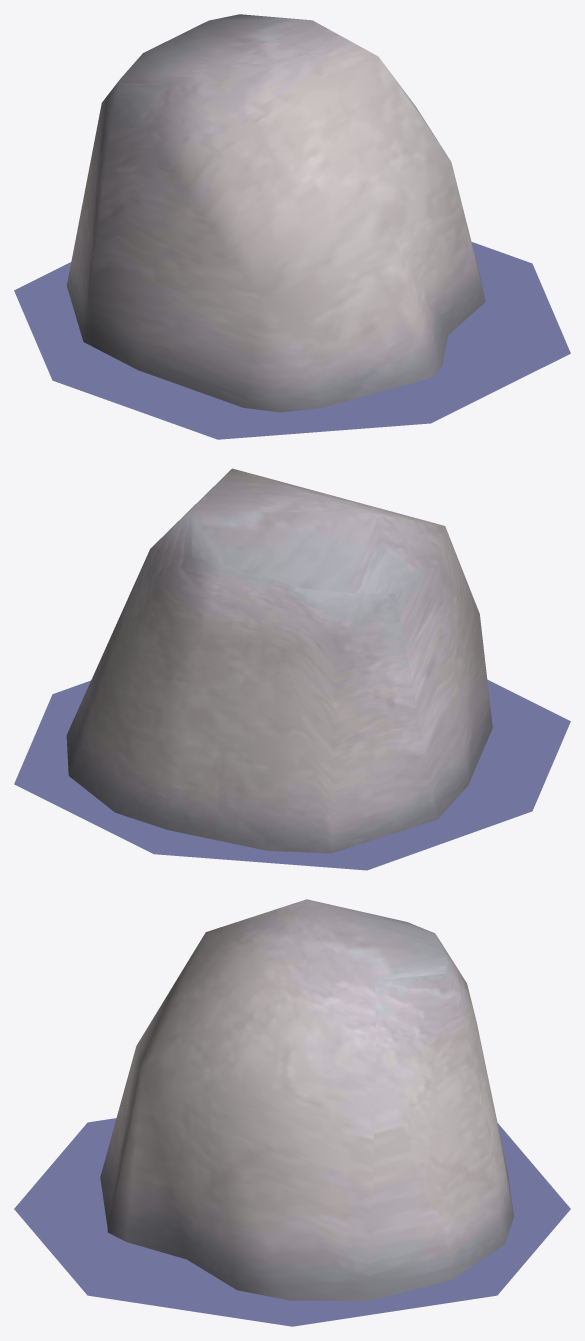
The model's file is fg_stoneA.fbx.
The picture shows the model from 3 angles, top to bottom: view 1: azimuth 30°, elevation 25°; view 2: azimuth 150°, elevation 25°; view 3: azimuth 270°, elevation 25°; orthographic projection.
Visible parts, largest first — view 1: fg_stoneA, sdw_circle; view 2: fg_stoneA, sdw_circle; view 3: fg_stoneA, sdw_circle.
Boxes of the visible parts, x1,y1,x2,y2 form: fg_stoneA: (67, 14, 485, 412); sdw_circle: (14, 242, 570, 439); fg_stoneA: (66, 468, 492, 853); sdw_circle: (14, 679, 570, 870); fg_stoneA: (100, 899, 514, 1300); sdw_circle: (14, 1118, 570, 1326).
Bounding box in the file's own units: 0.135 × 0.0723 × 0.135.
